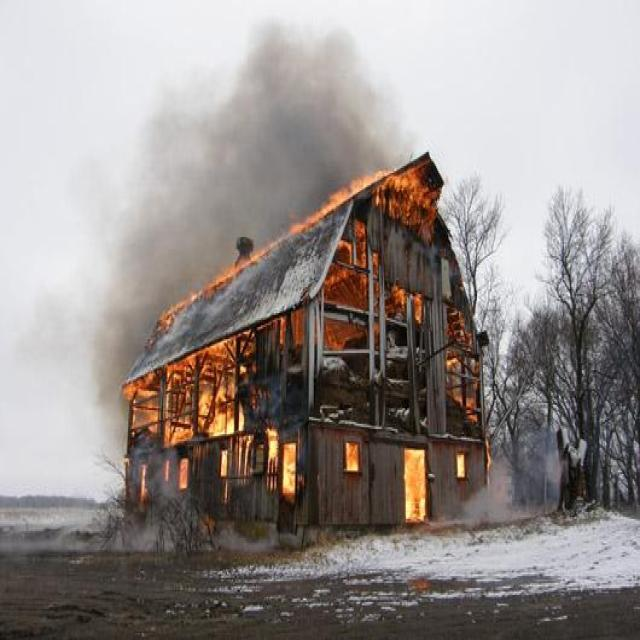Fire: (121, 150, 488, 530)
Smoke: (100, 17, 398, 176)
